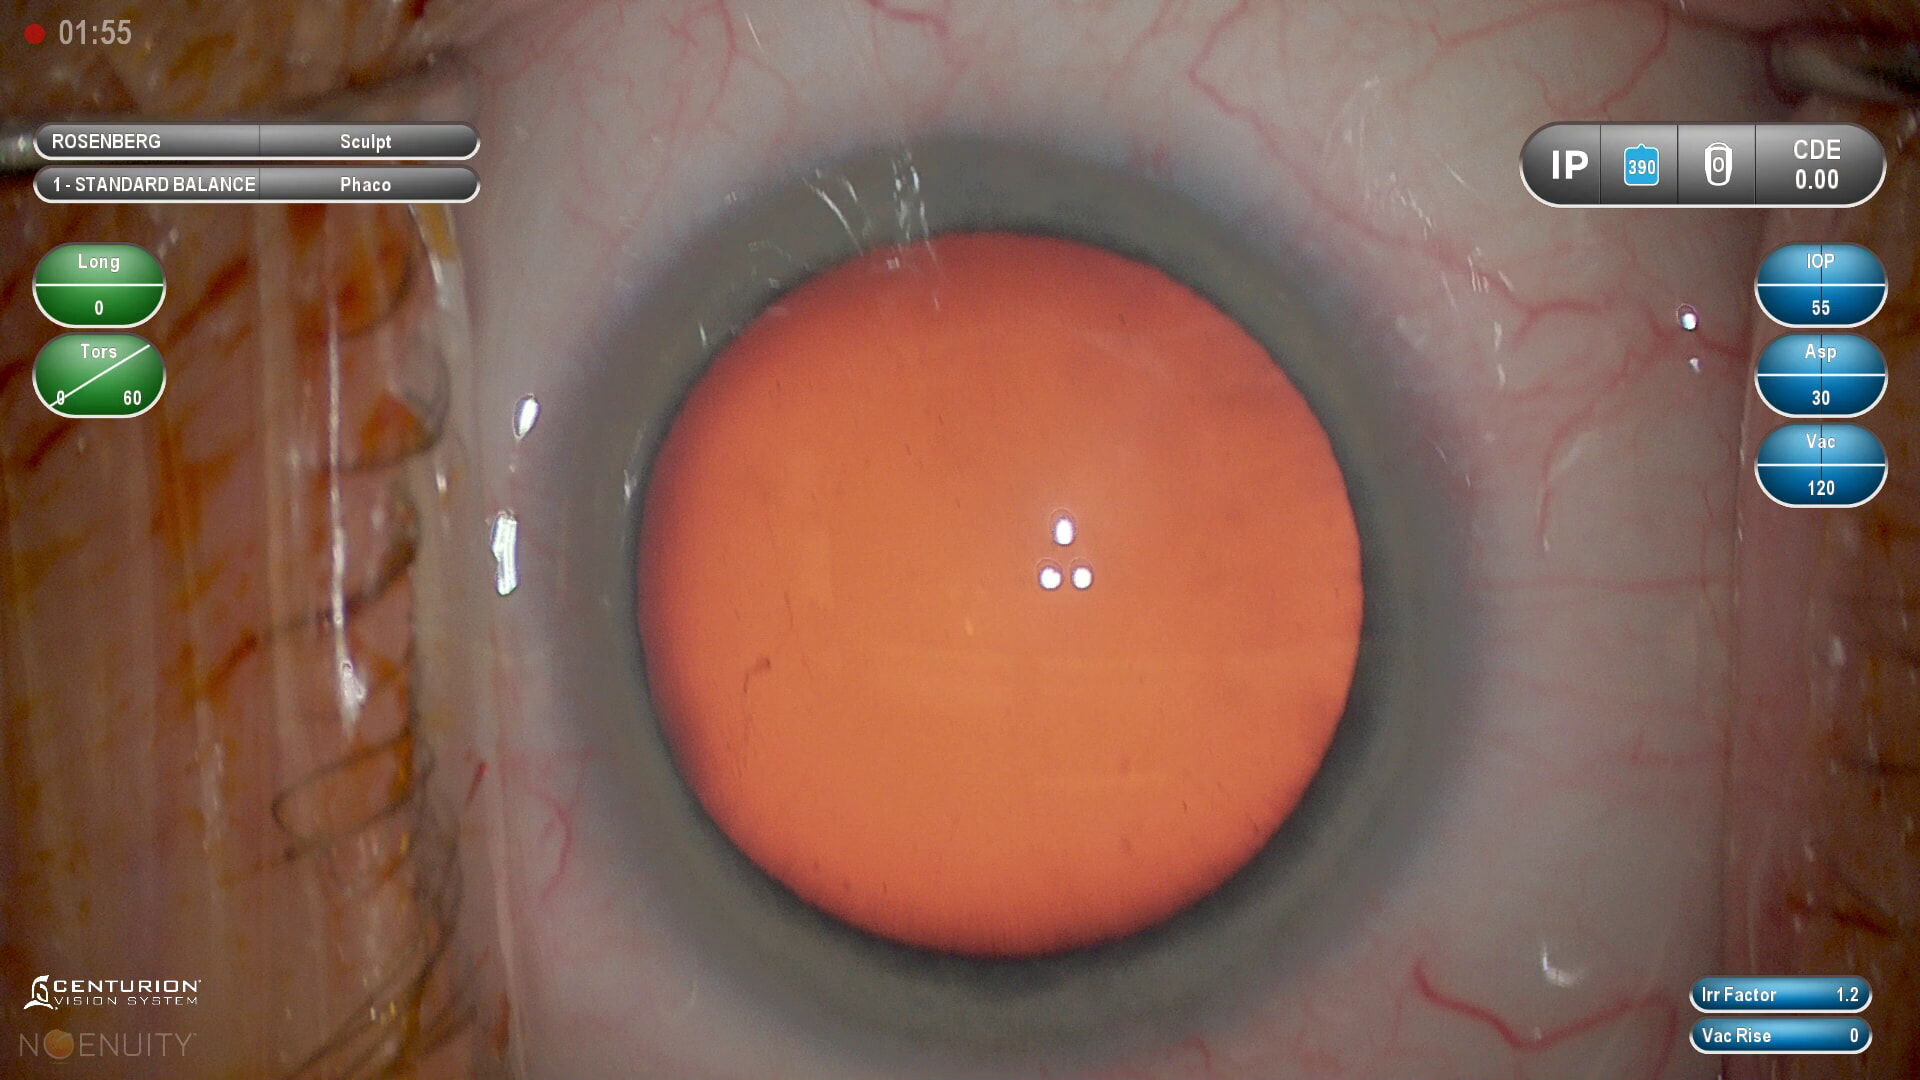iris: (542, 144, 1472, 1080)
pupil: (630, 226, 1369, 965)
